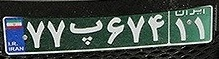1: (174, 16, 188, 42), (193, 15, 207, 41)
4: (147, 13, 166, 43)
6: (105, 15, 126, 46)
7: (125, 13, 148, 45), (45, 18, 68, 49), (24, 19, 46, 50)
پ: (68, 18, 104, 47)
